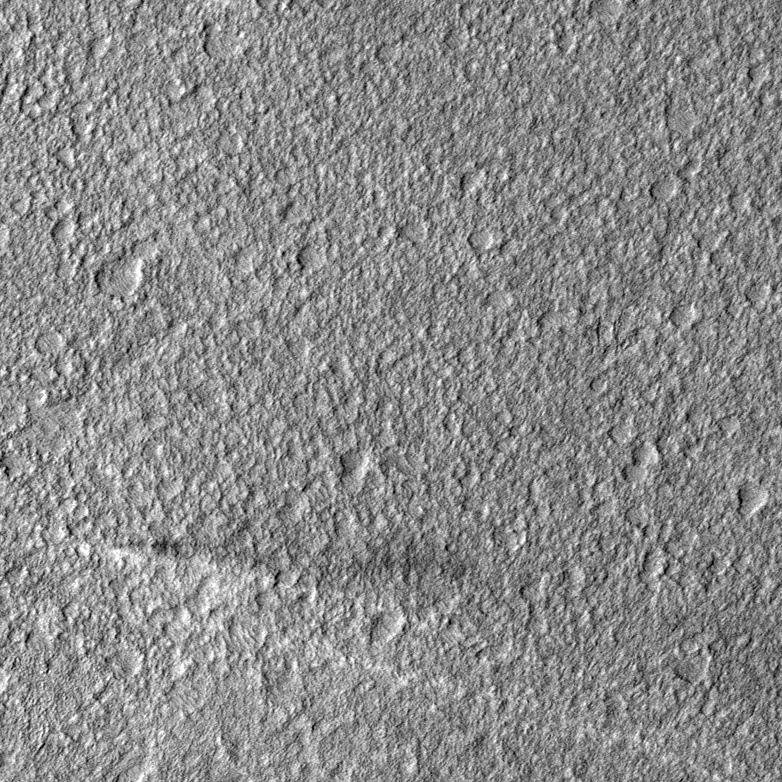dust_devil: (108, 536, 460, 607)
